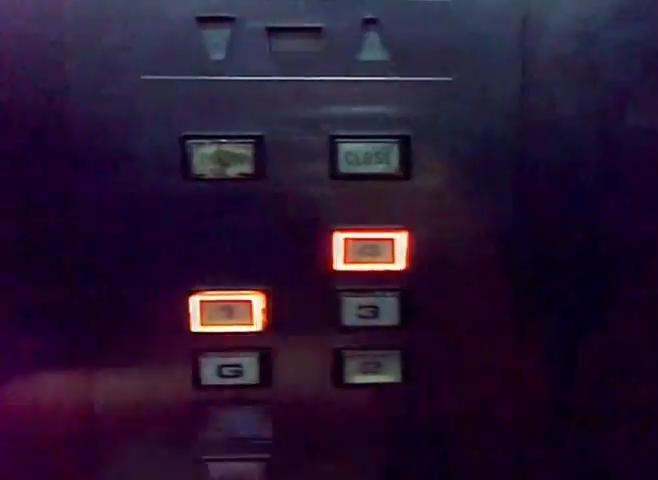1: (184, 285, 274, 337)
2: (329, 342, 411, 391)
3: (330, 285, 413, 334)
G: (186, 343, 277, 392)
blur: (176, 128, 271, 187), (327, 222, 415, 274)
text_close: (323, 127, 415, 184)
